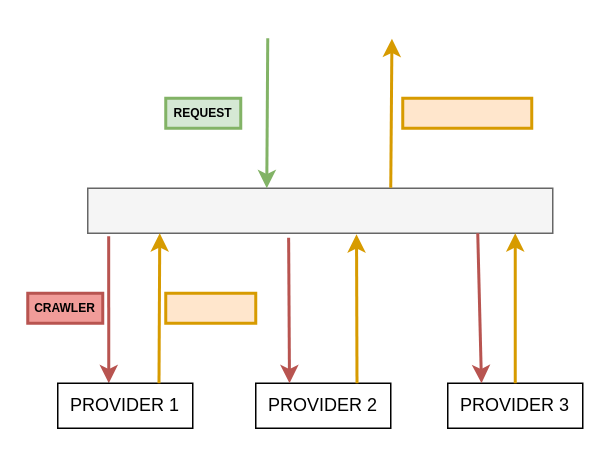
The diagram is 609 pixels wide and 455 high, and some of its shapes have lost their labels. The centre of each missing label's shape, as x and y in pixels:
"GENERATION DATA" goes at (210,307).
"GENERATION PROCESSED DATA" goes at (466,112).
"SCRAPER API" goes at (319,210).
